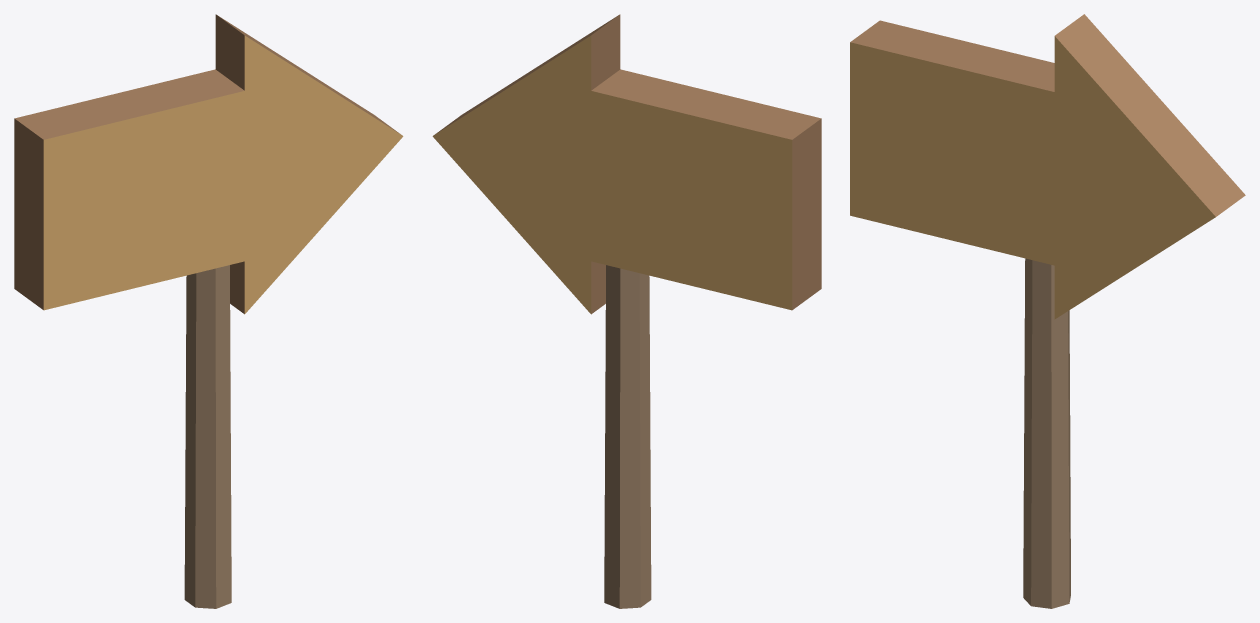
The model's file is arrow-sign.glb.
The picture shows the model from 3 angles, left to right: view 1: azimuth 30°, elevation 25°; view 2: azimuth 150°, elevation 25°; view 3: azimuth 330°, elevation 25°; orthographic projection.
Visible parts, largest first — view 1: arrow-sign; view 2: arrow-sign; view 3: arrow-sign.
Part boxes in pixels (left/top/right/bottom): arrow-sign: left=14, top=14, right=403, bottom=608; arrow-sign: left=432, top=14, right=821, bottom=608; arrow-sign: left=850, top=14, right=1245, bottom=608.
Size of the model in its own units: 1.7 by 2.57 by 0.24.
